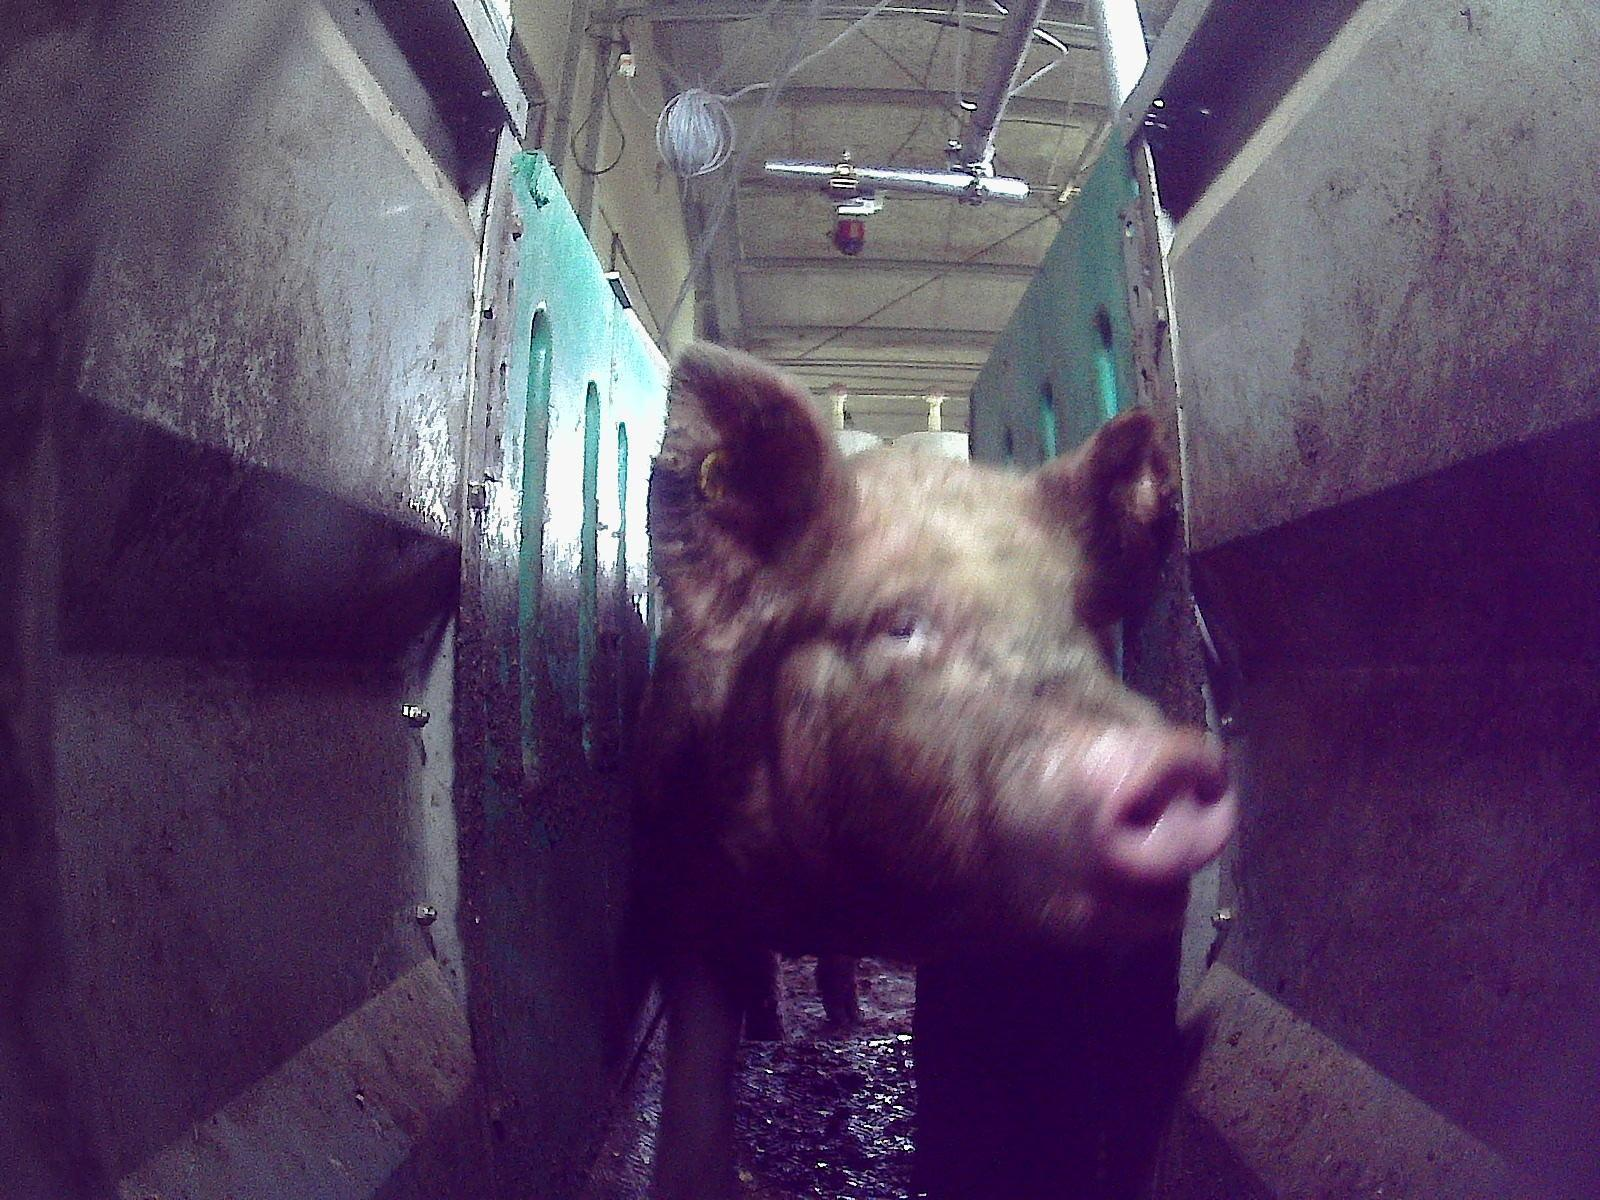Face: (739, 476, 1237, 950)
